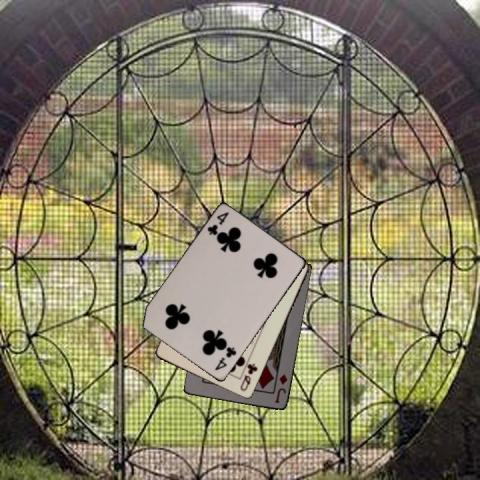4c: (212, 344, 238, 373), (204, 210, 230, 238)
Jd: (272, 371, 289, 405)
Qc: (238, 360, 260, 392)
